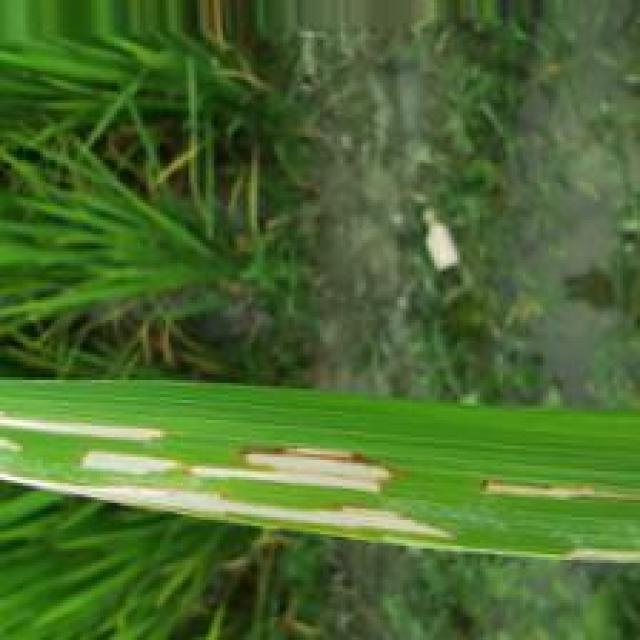Rice_Hispa: (7, 477, 465, 539), (88, 443, 397, 499), (0, 420, 171, 442), (480, 483, 632, 499)
